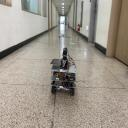cart: (50, 62, 77, 96)
